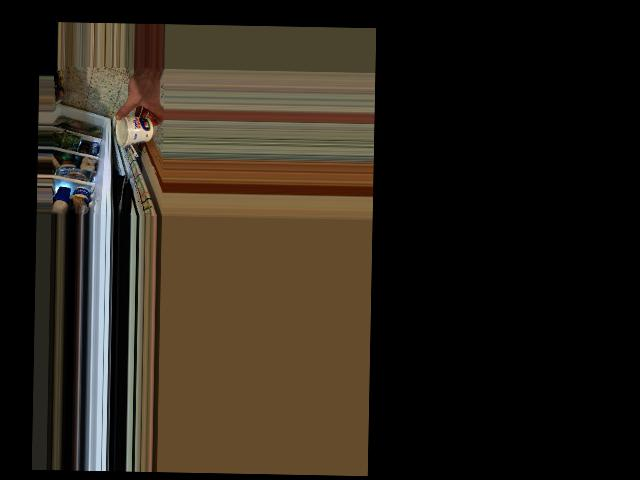cotage: (115, 114, 153, 146)
